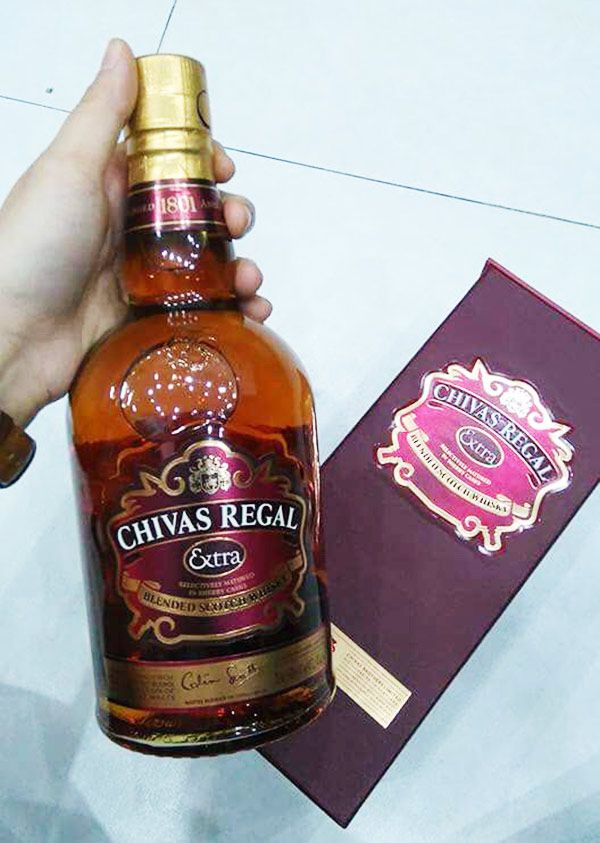Chivas Regal: (55, 46, 345, 764)
